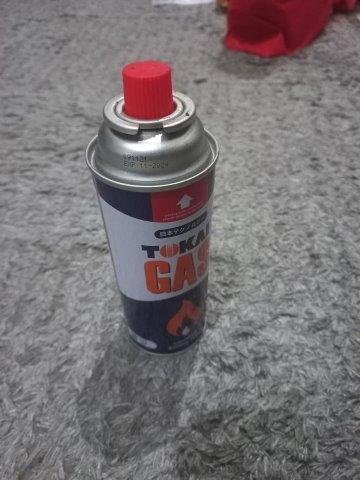kaleng: (85, 60, 220, 354)
